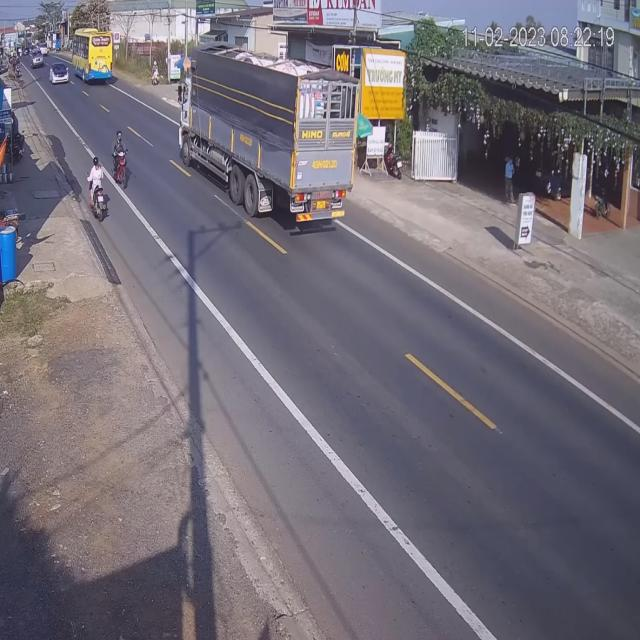bus: (74, 29, 114, 80)
car: (51, 58, 72, 86), (33, 49, 45, 69)
motorbike: (88, 156, 110, 221), (110, 128, 128, 188)
truck: (180, 45, 358, 227)
